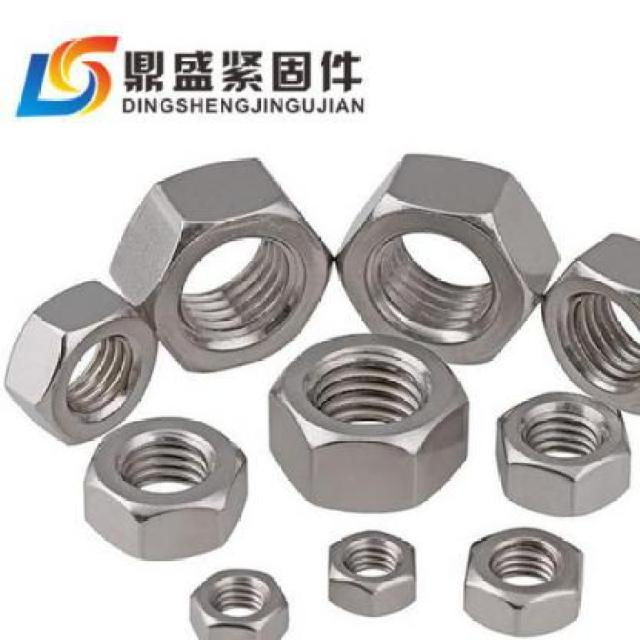Nut: (110, 156, 336, 373), (334, 152, 558, 364), (268, 332, 470, 512), (5, 277, 158, 446), (82, 416, 248, 560), (538, 227, 640, 418), (494, 392, 633, 518), (458, 524, 586, 638), (327, 528, 418, 618), (186, 566, 289, 640)
